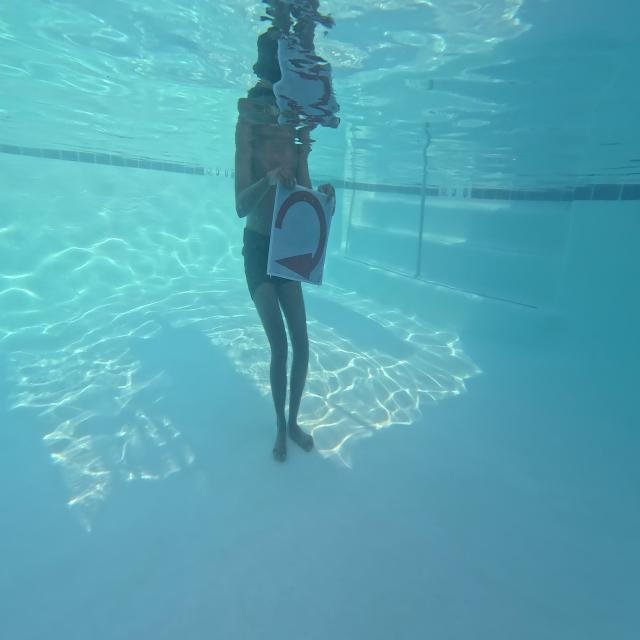red_side: (272, 170, 330, 294)
